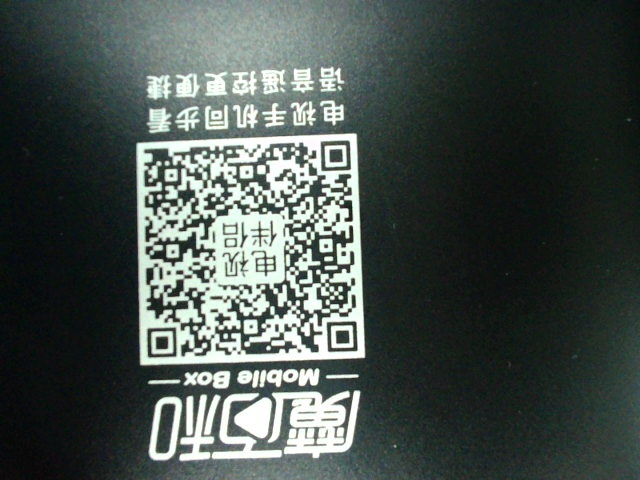AZ_MobileBox: (120, 68, 370, 461)
